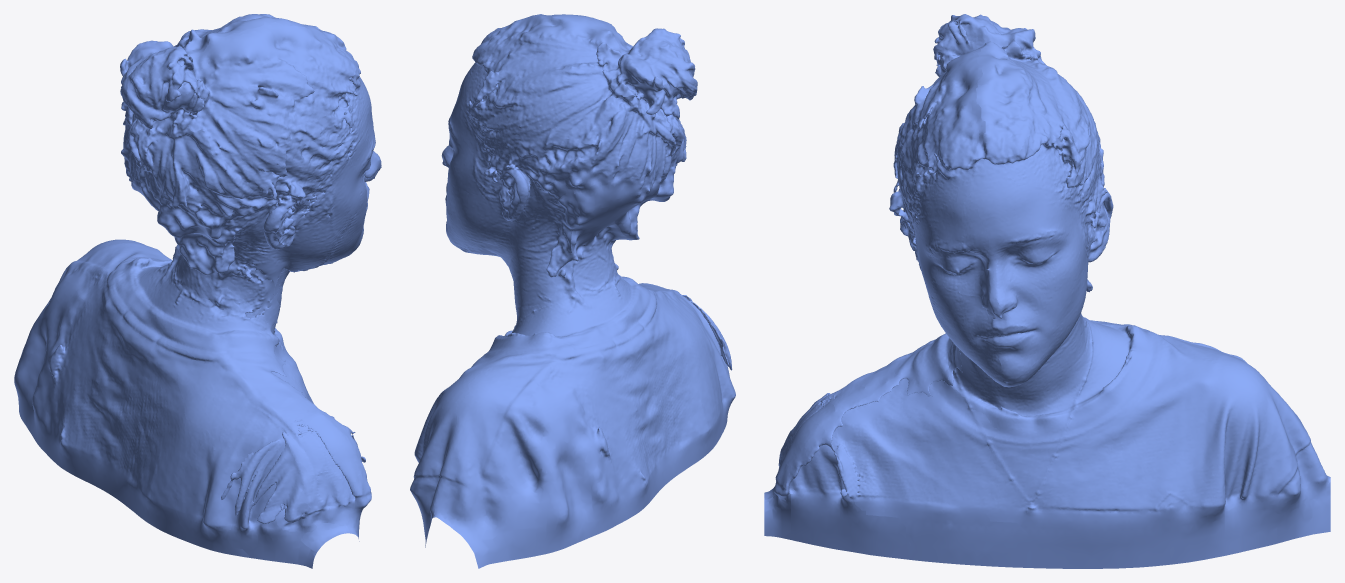
3 renders of one model, left to right at view 1: azimuth 30°, elevation 25°; view 2: azimuth 150°, elevation 25°; view 3: azimuth 270°, elevation 25°, orthographic. The views are drawn at different scales.
Size of the model in its own units: 263 by 427 by 461.
